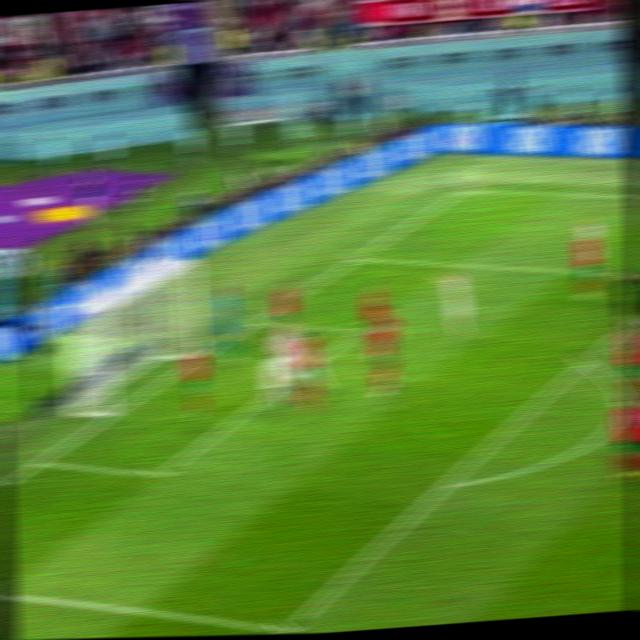bigarea_bottom_inner: (269, 610, 304, 634)
bigarea_top_outter: (345, 245, 373, 268)
bottom_arc_area_intersection: (431, 469, 462, 501)
corner: (452, 181, 482, 198)
smallarea_bottom_inner: (143, 456, 178, 492)
smallarea_bottom_outter: (26, 448, 56, 476)
smallarea_top_inner: (347, 318, 374, 343)
smallarea_top_outter: (244, 310, 271, 333)
top_arc_area_intersection: (571, 350, 599, 375)
